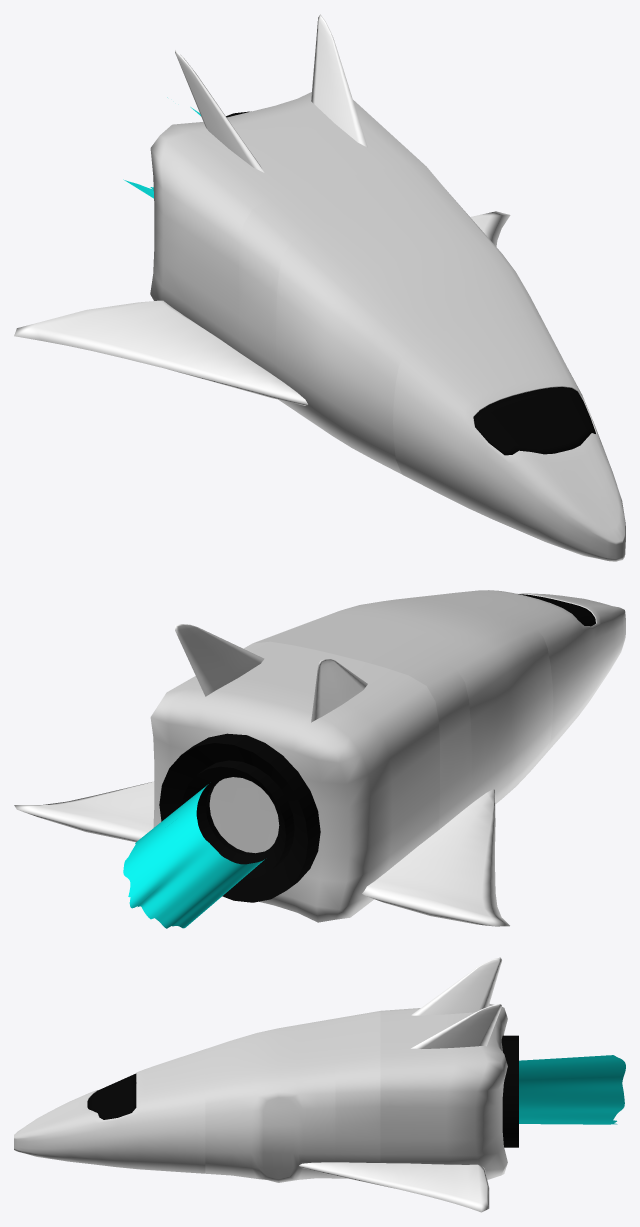
Rendered from FluxAfterburn_animationFinal2.gltf.
The picture shows the model from 3 angles, top to bottom: view 1: azimuth 30°, elevation 25°; view 2: azimuth 150°, elevation 25°; view 3: azimuth 270°, elevation 25°; orthographic projection. The views are drawn at different scales.
Visible parts, largest first — view 1: mainBody_GEO, wings_GEO:PIV, windscreenGlass_GEO:PIV, fins_GEO; view 2: mainBody_GEO, wings_GEO:PIV, flame_GEO, exhaustNozzle_GEO, fins_GEO, exhaustNozzleInner_GEO, windscreenGlass_GEO:PIV; view 3: mainBody_GEO, flame_GEO, wings_GEO:PIV, fins_GEO, exhaustNozzle_GEO, windscreenGlass_GEO:PIV.
Boxes of the visible parts, bbox=[...] form: mainBody_GEO: bbox=[150, 92, 625, 561]; wings_GEO:PIV: bbox=[14, 211, 510, 405]; windscreenGlass_GEO:PIV: bbox=[473, 387, 595, 455]; fins_GEO: bbox=[175, 14, 367, 172]; mainBody_GEO: bbox=[150, 590, 625, 922]; wings_GEO:PIV: bbox=[14, 781, 509, 926]; flame_GEO: bbox=[123, 784, 264, 928]; exhaustNozzle_GEO: bbox=[159, 733, 320, 902]; fins_GEO: bbox=[175, 624, 367, 722]; exhaustNozzleInner_GEO: bbox=[182, 760, 294, 878]; windscreenGlass_GEO:PIV: bbox=[518, 594, 595, 626]; mainBody_GEO: bbox=[14, 1003, 507, 1182]; flame_GEO: bbox=[519, 1055, 625, 1124]; wings_GEO:PIV: bbox=[299, 1162, 489, 1212]; fins_GEO: bbox=[411, 957, 501, 1048]; exhaustNozzle_GEO: bbox=[501, 1035, 518, 1147]; windscreenGlass_GEO:PIV: bbox=[87, 1073, 136, 1119].
Size of the model in its own units: 9.5 by 4.86 by 15.47.
